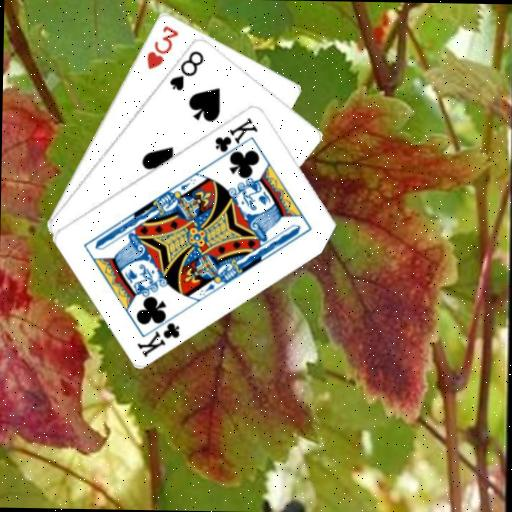3H: (143, 22, 181, 72)
8S: (166, 46, 206, 92)
KC: (212, 113, 260, 163), (134, 309, 182, 359)
